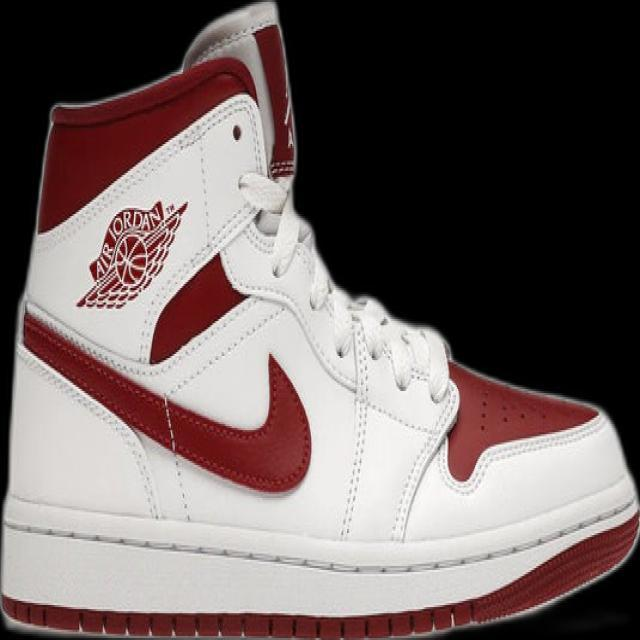J1_InsoleChar: (0, 0, 639, 639)
J1_ShoeLogo: (74, 198, 188, 310)
J1_StitchPattern: (20, 169, 459, 542), (227, 169, 452, 404), (3, 497, 638, 578), (17, 335, 194, 521), (330, 291, 458, 542), (334, 293, 451, 403), (389, 379, 462, 543), (335, 301, 373, 541), (157, 391, 195, 524)
